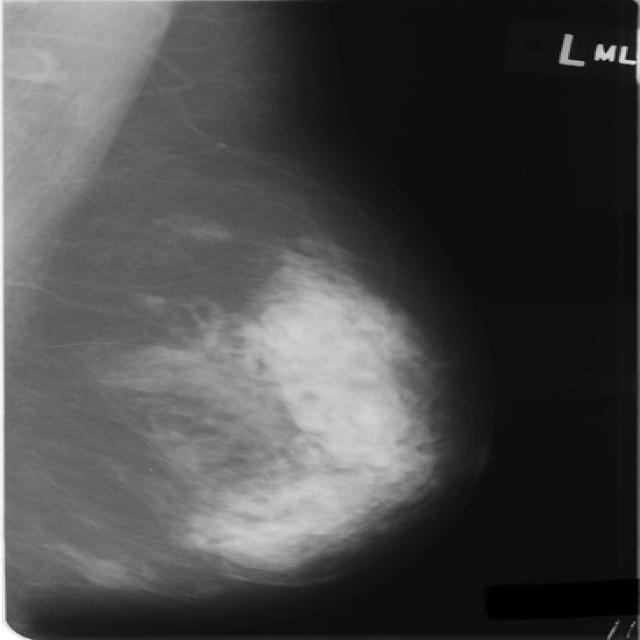tumour: (70, 554, 130, 589)
